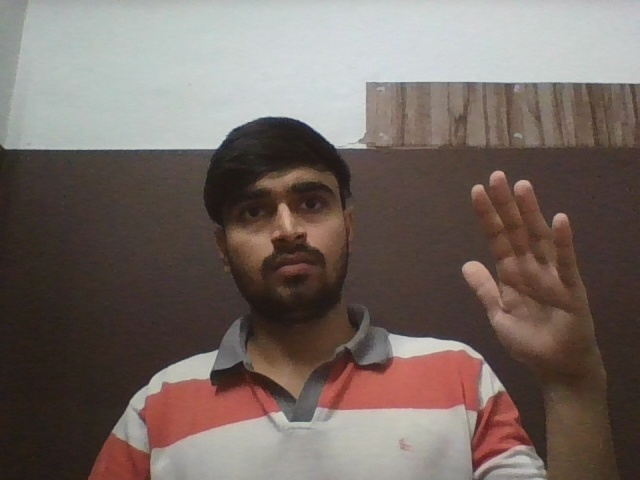Hello: (457, 170, 608, 382)
